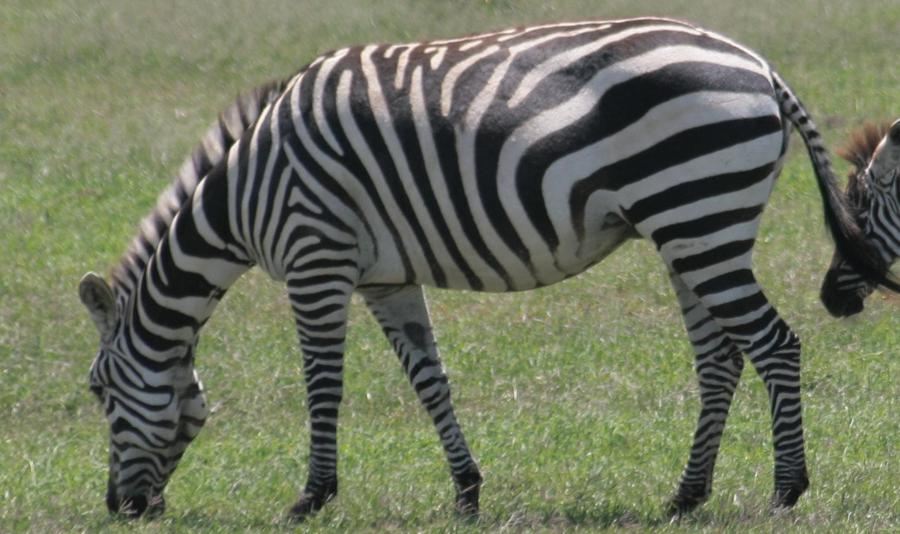zebra_plains: (228, 8, 817, 311)
